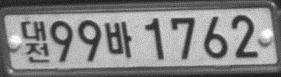1: (142, 17, 168, 60)
2: (230, 14, 258, 58)
6: (203, 15, 228, 59)
7: (170, 17, 196, 59)
9: (77, 19, 101, 61), (50, 20, 73, 61)
대전_V: (20, 20, 49, 63)
바: (104, 21, 133, 58)
